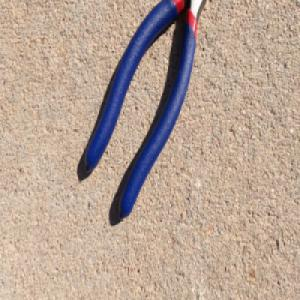Pliers: (83, 0, 209, 223)
